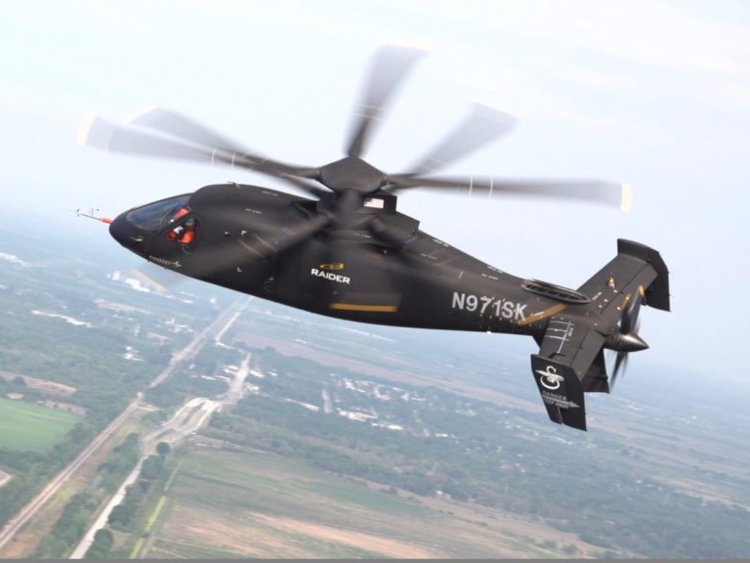MilitaryHelicopter: (145, 119, 677, 426)
